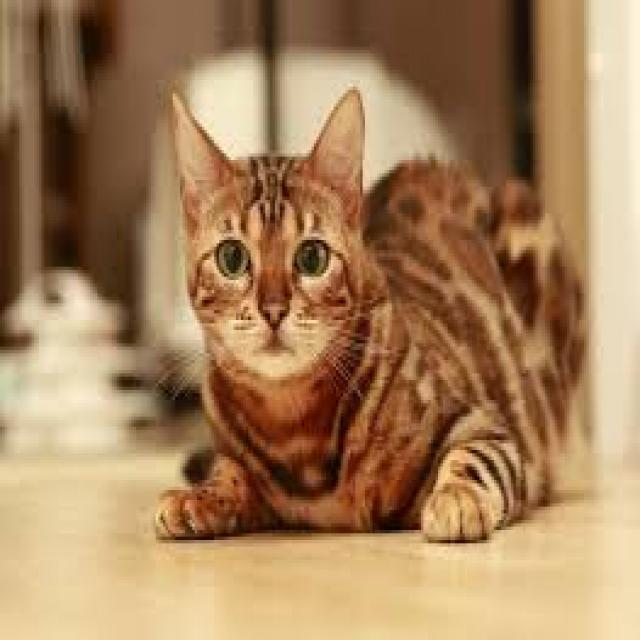Cat: (156, 81, 586, 557)
